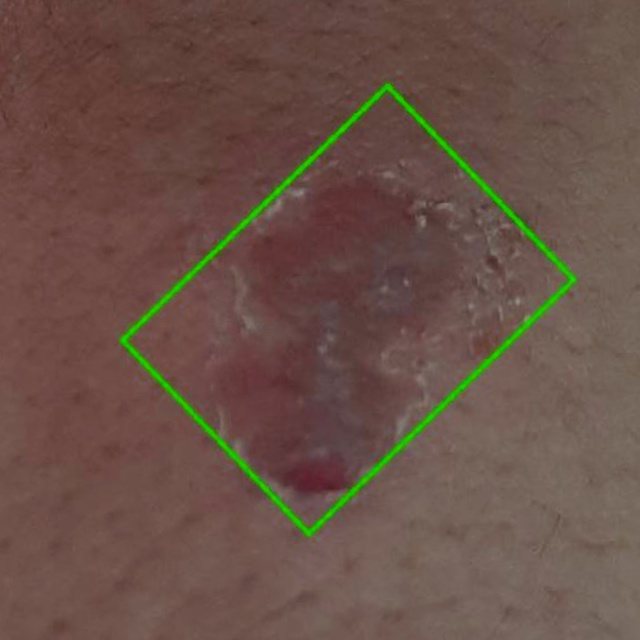Tinea Corporis: (122, 85, 573, 533)
